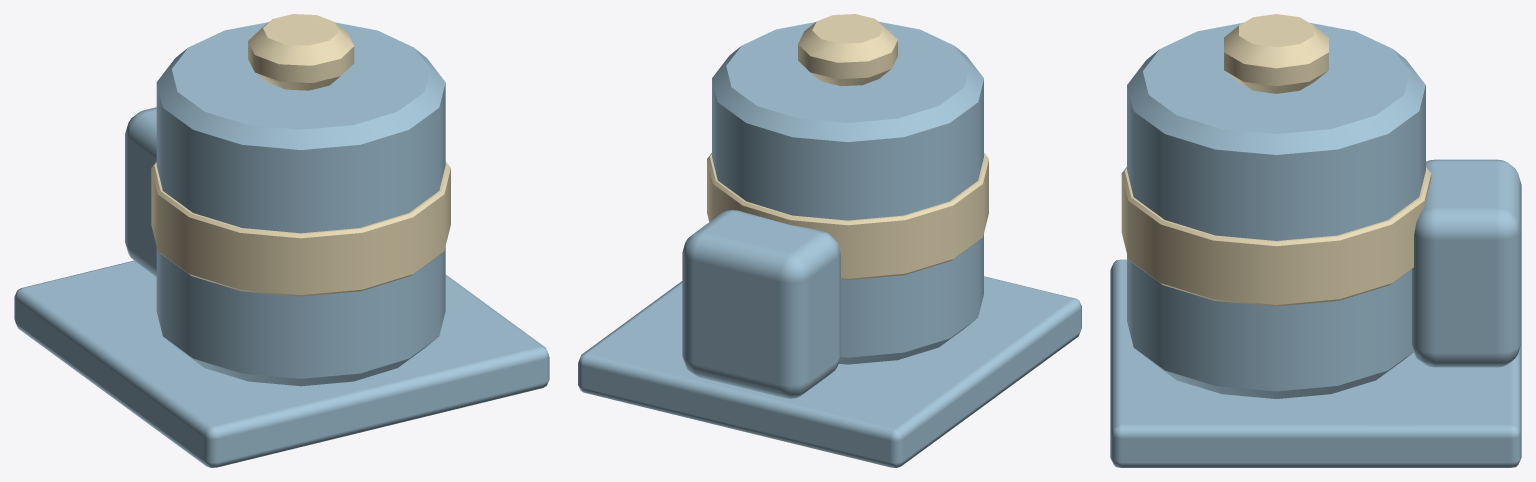
File: R4X_Battery.glb
The picture shows the model from 3 angles, left to right: view 1: azimuth 30°, elevation 25°; view 2: azimuth 150°, elevation 25°; view 3: azimuth 270°, elevation 25°; orthographic projection. The views are drawn at different scales.
Parts seen in each view (by area): view 1: R4X_Battery_Body; view 2: R4X_Battery_Body; view 3: R4X_Battery_Body.
Boxes of the visible parts, <box> form: R4X_Battery_Body: <box>14,14,549,467</box>; R4X_Battery_Body: <box>578,14,1081,467</box>; R4X_Battery_Body: <box>1110,14,1521,467</box>.
Size of the model in its own units: 0.52 by 0.495 by 0.52.
